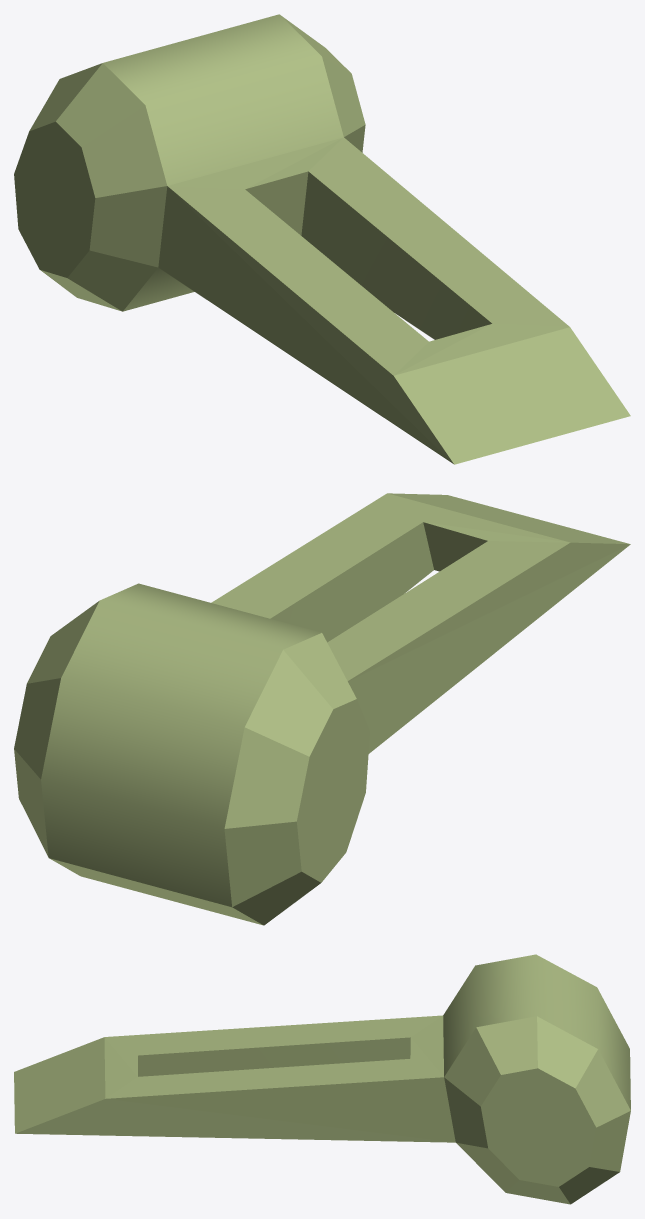
Rendered from SpiderLegLeftBackB.FBX.
3 renders of one model, top to bottom at view 1: azimuth 30°, elevation 25°; view 2: azimuth 150°, elevation 25°; view 3: azimuth 270°, elevation 25°, orthographic. The views are drawn at different scales.
Parts seen in each view (by area): view 1: SpiderLegLeftBackB; view 2: SpiderLegLeftBackB; view 3: SpiderLegLeftBackB.
Boxes of the visible parts, x1=… form: SpiderLegLeftBackB: x1=14, y1=14, x2=630, y2=464; SpiderLegLeftBackB: x1=14, y1=493, x2=630, y2=925; SpiderLegLeftBackB: x1=14, y1=954, x2=630, y2=1204.
Size of the model in its own units: 75.65 by 192 by 66.49.
